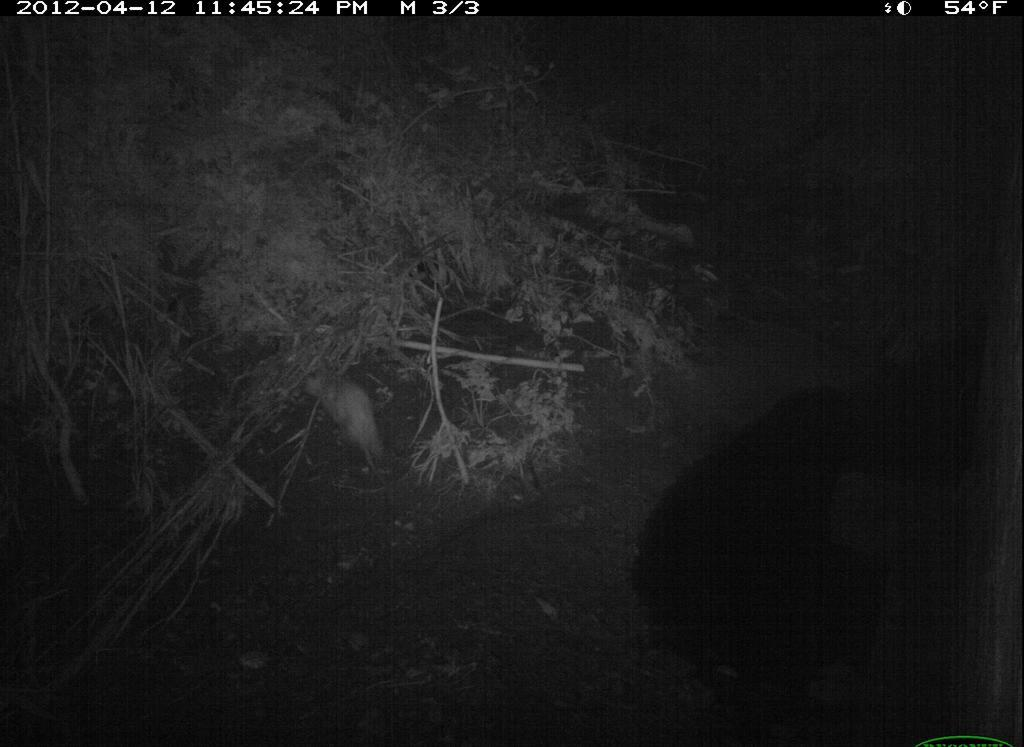opossum: (291, 360, 406, 500)
